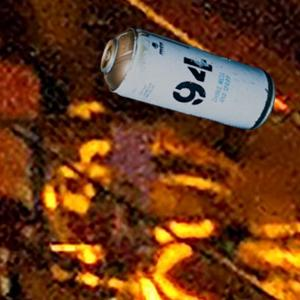can: (100, 28, 278, 131)
